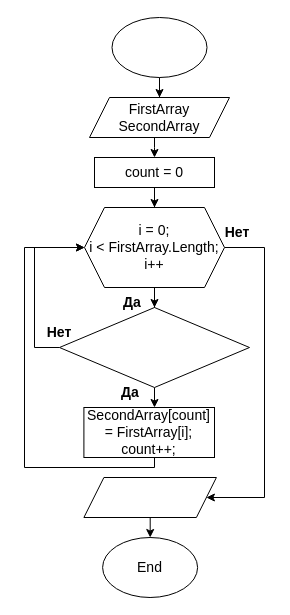
The diagram is 290 pixels wide and 615 high, and some of its shapes have lost their labels. The box of each missing label's shape, as (x1, y1, x2, y2) in pixels:
FirstArray[i].Length <= 3: (58, 306, 250, 388)
SecondArray: (83, 476, 216, 518)
Start: (111, 16, 207, 78)
